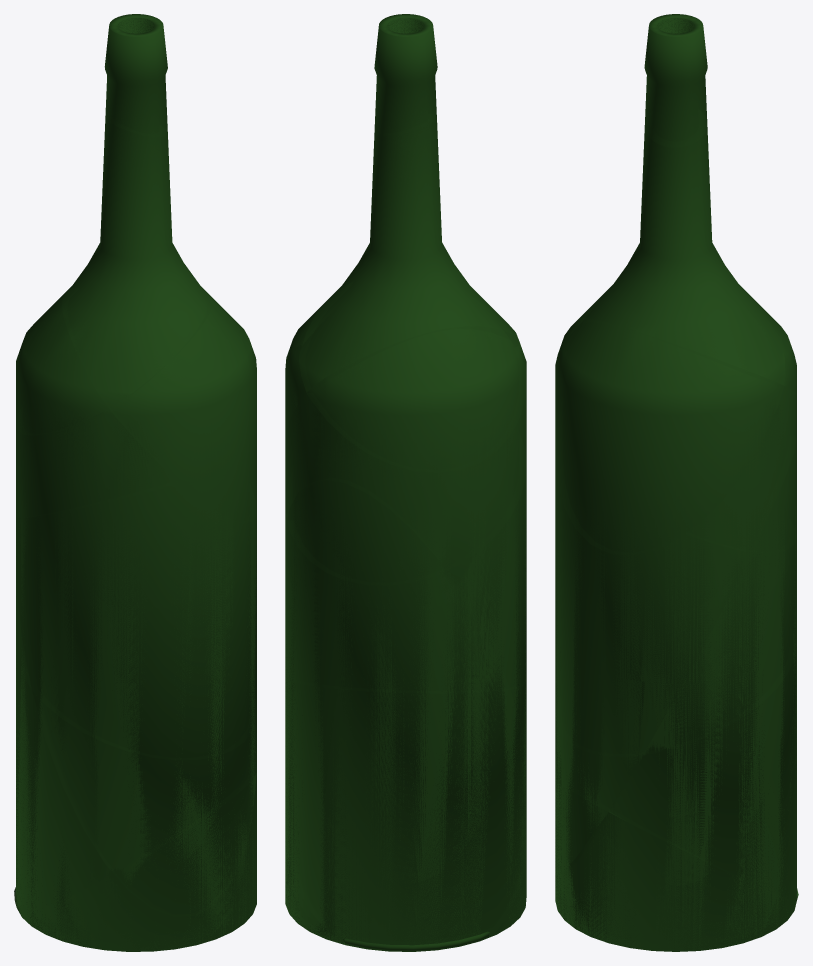
Rendered from Bottle.fbx.
3 views of the same model, side by side, from view 1: azimuth 30°, elevation 25°; view 2: azimuth 150°, elevation 25°; view 3: azimuth 270°, elevation 25° (orthographic).
Visible parts, largest first — view 1: Bottle_LOD0, Bottle_Fragment_10, Bottle_Fragment_2, Bottle_Fragment_6, Bottle_Fragment_5, Bottle_Fragment_12, Bottle_Fragment_8, Bottle_Fragment_1, Bottle_Fragment_7, Bottle_Fragment_4, Bottle_Fragment_3, Bottle_Fragment_11; view 2: Bottle_LOD0, Bottle_Fragment_12, Bottle_Fragment_4, Bottle_Fragment_11, Bottle_Fragment_2, Bottle_Fragment_8, Bottle_Fragment_9, Bottle_Fragment_10, Bottle_Fragment_3, Bottle_Fragment_1, Bottle_Fragment_6, Bottle_Fragment_13; view 3: Bottle_LOD0, Bottle_Fragment_6, Bottle_Fragment_10, Bottle_Fragment_12, Bottle_Fragment_2, Bottle_Fragment_1, Bottle_Fragment_11, Bottle_Fragment_3, Bottle_Fragment_8, Bottle_Fragment_5, Bottle_Fragment_7, Bottle_Fragment_9 (+1 smaller).
Part boxes in pixels (left/top/right/bottom): Bottle_LOD0: left=16, top=14, right=256, bottom=951; Bottle_Fragment_10: left=16, top=483, right=256, bottom=759; Bottle_Fragment_2: left=62, top=118, right=212, bottom=407; Bottle_Fragment_6: left=109, top=298, right=256, bottom=522; Bottle_Fragment_5: left=32, top=690, right=256, bottom=873; Bottle_Fragment_12: left=16, top=655, right=112, bottom=912; Bottle_Fragment_8: left=16, top=409, right=179, bottom=517; Bottle_Fragment_1: left=20, top=775, right=256, bottom=951; Bottle_Fragment_7: left=115, top=774, right=256, bottom=916; Bottle_Fragment_4: left=16, top=295, right=107, bottom=435; Bottle_Fragment_3: left=105, top=14, right=167, bottom=136; Bottle_Fragment_11: left=16, top=559, right=31, bottom=688; Bottle_LOD0: left=285, top=14, right=526, bottom=951; Bottle_Fragment_12: left=285, top=679, right=526, bottom=945; Bottle_Fragment_4: left=307, top=326, right=526, bottom=472; Bottle_Fragment_11: left=285, top=523, right=510, bottom=693; Bottle_Fragment_2: left=299, top=117, right=516, bottom=392; Bottle_Fragment_8: left=285, top=373, right=526, bottom=570; Bottle_Fragment_9: left=288, top=480, right=445, bottom=585; Bottle_Fragment_10: left=285, top=459, right=526, bottom=689; Bottle_Fragment_3: left=375, top=14, right=436, bottom=135; Bottle_Fragment_1: left=285, top=841, right=526, bottom=943; Bottle_Fragment_6: left=285, top=306, right=321, bottom=433; Bottle_Fragment_13: left=343, top=931, right=489, bottom=951; Bottle_LOD0: left=555, top=14, right=796, bottom=951; Bottle_Fragment_6: left=555, top=317, right=783, bottom=555; Bottle_Fragment_10: left=555, top=455, right=751, bottom=756; Bottle_Fragment_12: left=609, top=646, right=796, bottom=901; Bottle_Fragment_2: left=580, top=126, right=785, bottom=385; Bottle_Fragment_1: left=555, top=812, right=796, bottom=951; Bottle_Fragment_11: left=643, top=537, right=796, bottom=754; Bottle_Fragment_3: left=644, top=14, right=706, bottom=147; Bottle_Fragment_8: left=686, top=387, right=796, bottom=551; Bottle_Fragment_5: left=555, top=717, right=642, bottom=811; Bottle_Fragment_7: left=555, top=780, right=606, bottom=874; Bottle_Fragment_9: left=752, top=439, right=796, bottom=553.
Size of what is drawn, in the model's own units: 10 by 40 by 10.07.
